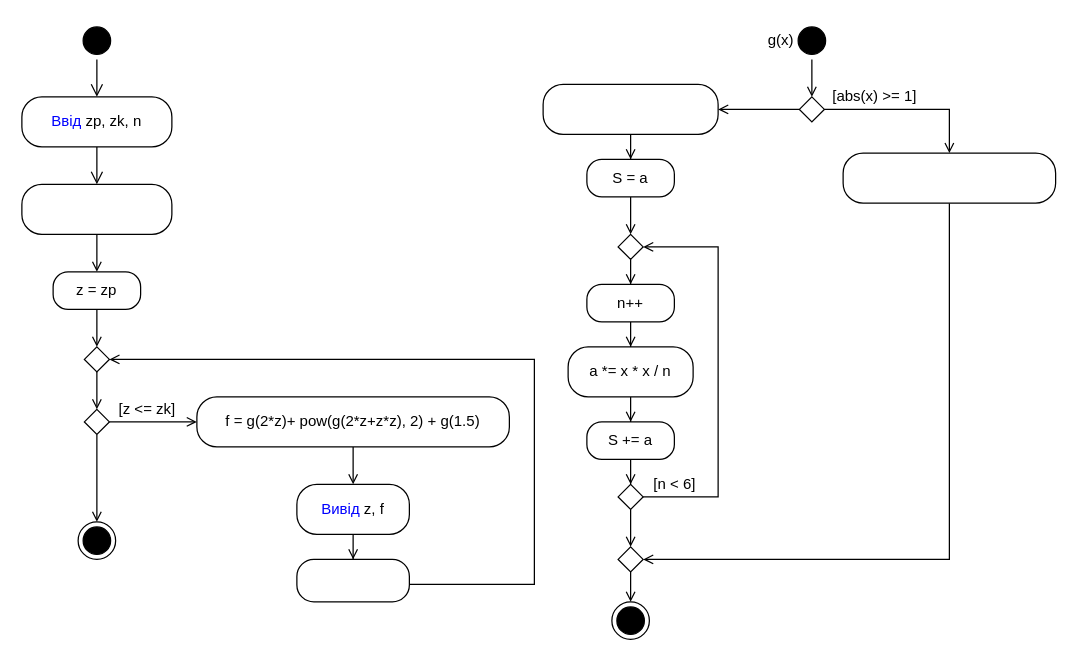
This 1078x661 diagram has some shape labels left out. Each missing label, with the centre of its shape:
return sin(x) / (cos(x) + 2): (x=949, y=177)
S = 0.0, a = 1.0, n =0: (x=630, y=108)
z += dz: (x=352, y=580)
zg = (zk - zp) / n: (x=96, y=208)
